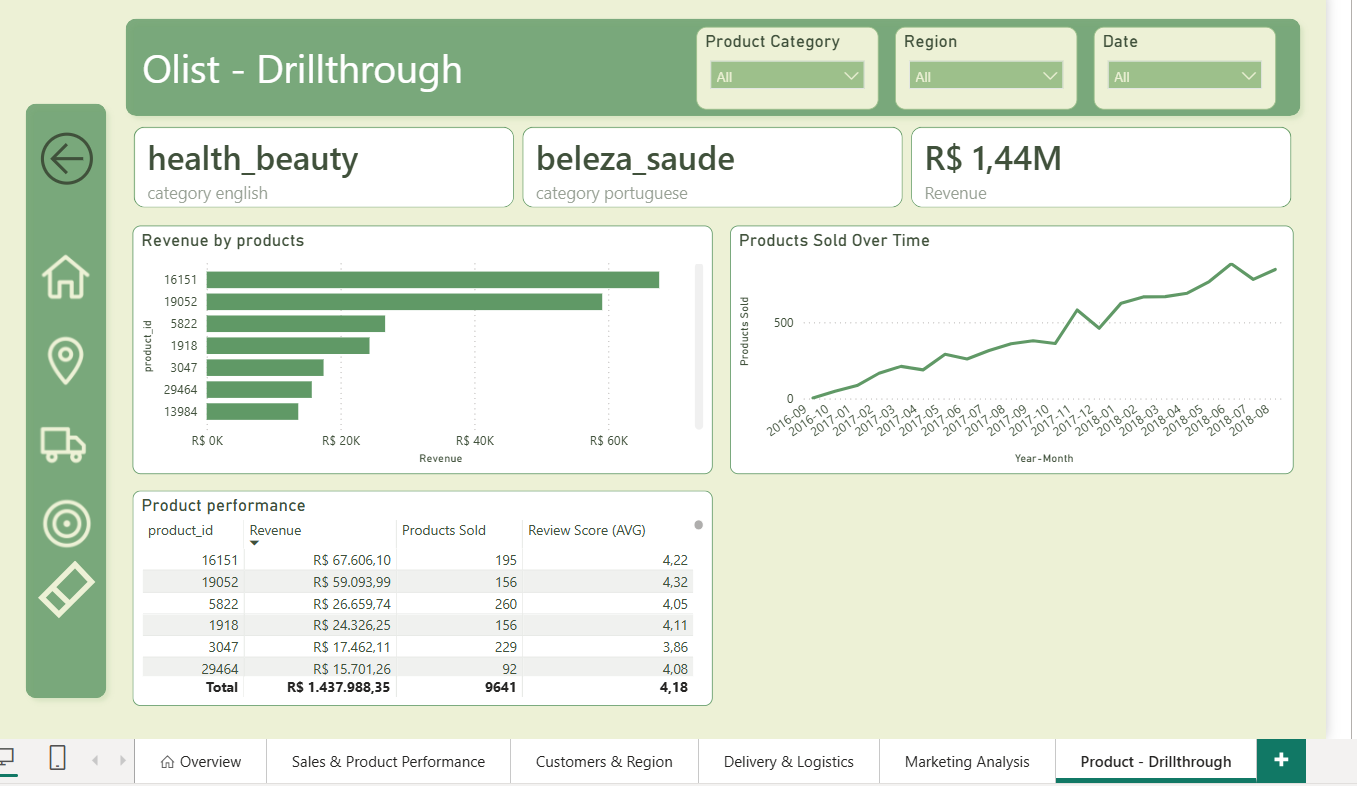

This screenshot's page, from the dashboard's own definition file:
{"tool":"powerbi","page":{"name":"Product - Drillthrough","canvas":[1280,720],"ordinal":5},"visuals":[{"type":"shape","box":[16,98.2,96,592],"z":0,"group":"g1"},{"type":"barChart","title":"Revenue by products","fields":{"Category":["olist_products4.product_id"],"Y":["MyMeasure.Revenue"]},"box":[128,224,560,240],"z":0},{"type":"shape","box":[112,16,1152,112],"z":1000},{"type":"actionButton","box":[32,242.2,64,64],"z":1000,"group":"g1"},{"type":"slicer","title":"Product Category","fields":{"Values":["olist_products4.product_category_name_english"]},"box":[672,32,176,80],"z":2000},{"type":"actionButton","box":[32,322.2,64,64],"z":2000,"group":"g1"},{"type":"slicer","title":"Region","fields":{"Values":["olist_customers2.customer region Hierarchy.customer region","olist_customers2.customer region Hierarchy.customer_city"]},"box":[864,32,176,80],"z":3000},{"type":"actionButton","box":[32,402.2,64,64],"z":3000,"group":"g1"},{"type":"group","id":"g1","title":"Group 1","box":[16,98.2,96,592],"z":4000},{"type":"cardVisual","fields":{"Data":["Min(olist_products4.product_category_name_english)","Min(olist_products4.product_category_name)","MyMeasure.Revenue"]},"box":[112,112,1152,112],"z":5000},{"type":"actionButton","box":[32,544,64,64],"z":6000},{"type":"slicer","title":"Date","fields":{"Values":["Calendar.Year Hierarchy.Year","Calendar.Year Hierarchy.Quarter","Calendar.Year Hierarchy.Month"]},"box":[1056,32,176,80],"z":7000},{"type":"lineChart","title":"Products Sold Over Time","fields":{"Y":["MyMeasure.Products Sold"],"Category":["Calendar.Year-Month"]},"box":[704,224,544,240],"z":8000},{"type":"tableEx","title":"Product performance","fields":{"Values":["olist_products4.product_id","MyMeasure.Revenue","MyMeasure.Total Per Order","MyMeasure.Average Review Score per Product"]},"box":[128,480,560,208],"z":9000},{"type":"actionButton","box":[32,128,64,64],"z":10000},{"type":"actionButton","box":[32,480,64,64],"z":11000}]}

Visuals, with their boxes on the page's 1280x720 design canvas (x1, y1, x2, y2). These are canvas units, not pixel positions in the 1357x786 screenshot, which may show the page scaled, cropped or inside an application window:
shape: left=16, top=98, right=112, bottom=690
"Revenue by products" barChart: left=128, top=224, right=688, bottom=464
shape: left=112, top=16, right=1264, bottom=128
actionButton: left=32, top=242, right=96, bottom=306
"Product Category" slicer: left=672, top=32, right=848, bottom=112
actionButton: left=32, top=322, right=96, bottom=386
"Region" slicer: left=864, top=32, right=1040, bottom=112
actionButton: left=32, top=402, right=96, bottom=466
"Group 1" group: left=16, top=98, right=112, bottom=690
cardVisual - Min(olist_products4.product_category_name_english) x Min(olist_products4.product_category_name): left=112, top=112, right=1264, bottom=224
actionButton: left=32, top=544, right=96, bottom=608
"Date" slicer: left=1056, top=32, right=1232, bottom=112
"Products Sold Over Time" lineChart: left=704, top=224, right=1248, bottom=464
"Product performance" tableEx: left=128, top=480, right=688, bottom=688
actionButton: left=32, top=128, right=96, bottom=192
actionButton: left=32, top=480, right=96, bottom=544
